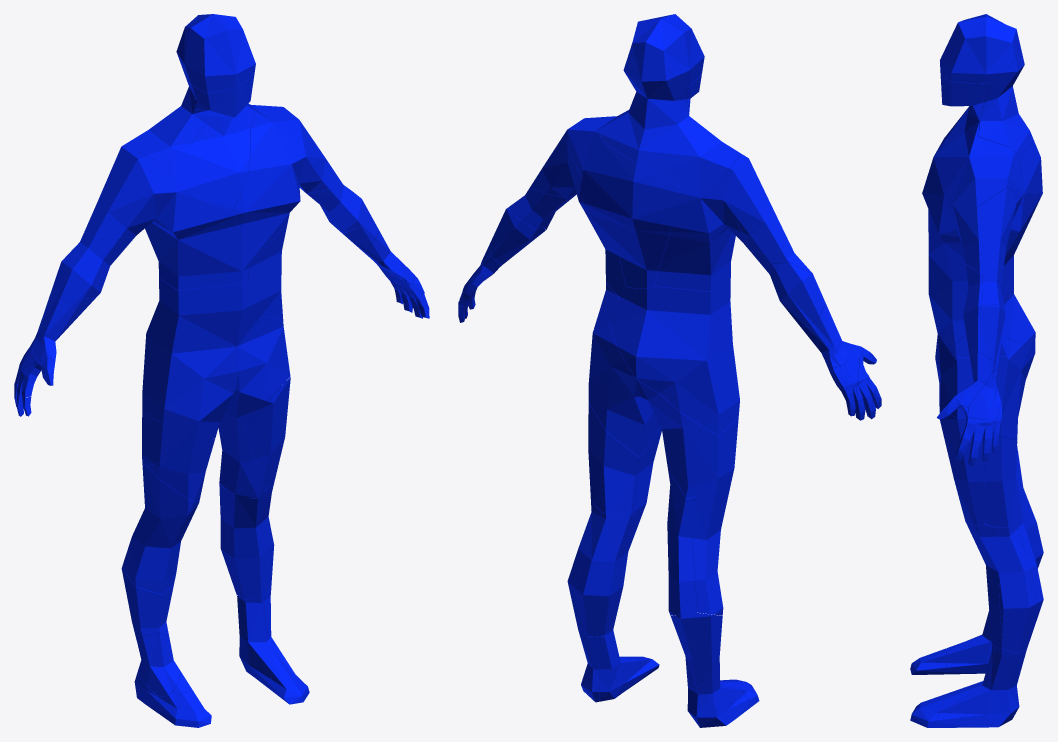
Rendered from BlueShatteringEnemy.fbx.
3 views of the same model, side by side, from view 1: azimuth 30°, elevation 25°; view 2: azimuth 150°, elevation 25°; view 3: azimuth 270°, elevation 25° (orthographic). The views are drawn at different scales.
Visible parts, largest first — view 1: Cube.001_cell.031, Cube.001_cell.006, Cube.001_cell.043, Cube.001_cell.005, Cube.001_cell.028, Cube.001_cell.032, Cube.001_cell.020, Cube.001_cell.049, Cube.001_cell.042, Cube.001_cell.037, Cube.001_cell.008, Cube.001_cell.010 (+14 smaller); view 2: Cube.001_cell.031, Cube.001_cell.006, Cube.001_cell.037, Cube.001_cell, Cube.001_cell.028, Cube.001_cell.048, Cube.001_cell.024, Cube.001_cell.020, Cube.001_cell.049, Cube.001_cell.032, Cube.001_cell.012, Cube.001_cell.027 (+15 smaller); view 3: Cube.001_cell.043, Cube.001_cell.006, Cube.001_cell.049, Cube.001_cell.029, Cube.001_cell.016, Cube.001_cell.037, Cube.001_cell.026, Cube.001_cell.024, Cube.001_cell.010, Cube.001_cell.047, Cube.001_cell.005, Cube.001_cell.031 (+18 smaller).
Part boxes in pixels (box(x1,y1,x2,y2)): Cube.001_cell.031: box(142, 278, 267, 423); Cube.001_cell.006: box(142, 317, 290, 466); Cube.001_cell.043: box(232, 103, 316, 264); Cube.001_cell.005: box(168, 75, 254, 211); Cube.001_cell.028: box(145, 196, 249, 290); Cube.001_cell.032: box(84, 145, 195, 237); Cube.001_cell.020: box(122, 464, 197, 594); Cube.001_cell.049: box(179, 14, 255, 93); Cube.001_cell.042: box(219, 482, 274, 598); Cube.001_cell.037: box(123, 43, 252, 170); Cube.001_cell.008: box(237, 595, 302, 690); Cube.001_cell.010: box(245, 377, 290, 489); Cube.001_cell.031: box(608, 262, 739, 435); Cube.001_cell.006: box(588, 321, 738, 498); Cube.001_cell.037: box(601, 59, 740, 188); Cube.001_cell: box(582, 141, 683, 288); Cube.001_cell.028: box(654, 181, 751, 291); Cube.001_cell.048: box(575, 512, 629, 636); Cube.001_cell.024: box(588, 402, 640, 516); Cube.001_cell.020: box(690, 483, 730, 615); Cube.001_cell.049: box(627, 14, 704, 86); Cube.001_cell.032: box(718, 154, 787, 252); Cube.001_cell.012: box(667, 501, 696, 615); Cube.001_cell.027: box(670, 612, 722, 686); Cube.001_cell.043: box(922, 136, 1024, 256); Cube.001_cell.006: box(935, 335, 1034, 448); Cube.001_cell.049: box(940, 14, 1020, 83); Cube.001_cell.029: box(998, 523, 1036, 652); Cube.001_cell.016: box(959, 187, 1022, 274); Cube.001_cell.037: box(963, 47, 1034, 155); Cube.001_cell.026: box(956, 646, 1026, 727); Cube.001_cell.024: box(984, 436, 1022, 527); Cube.001_cell.010: box(939, 411, 984, 526); Cube.001_cell.047: box(932, 249, 968, 346); Cube.001_cell.005: box(928, 75, 991, 173); Cube.001_cell.031: box(928, 267, 1035, 354).
Size of the model in its own units: 352 by 557 by 99.44.
